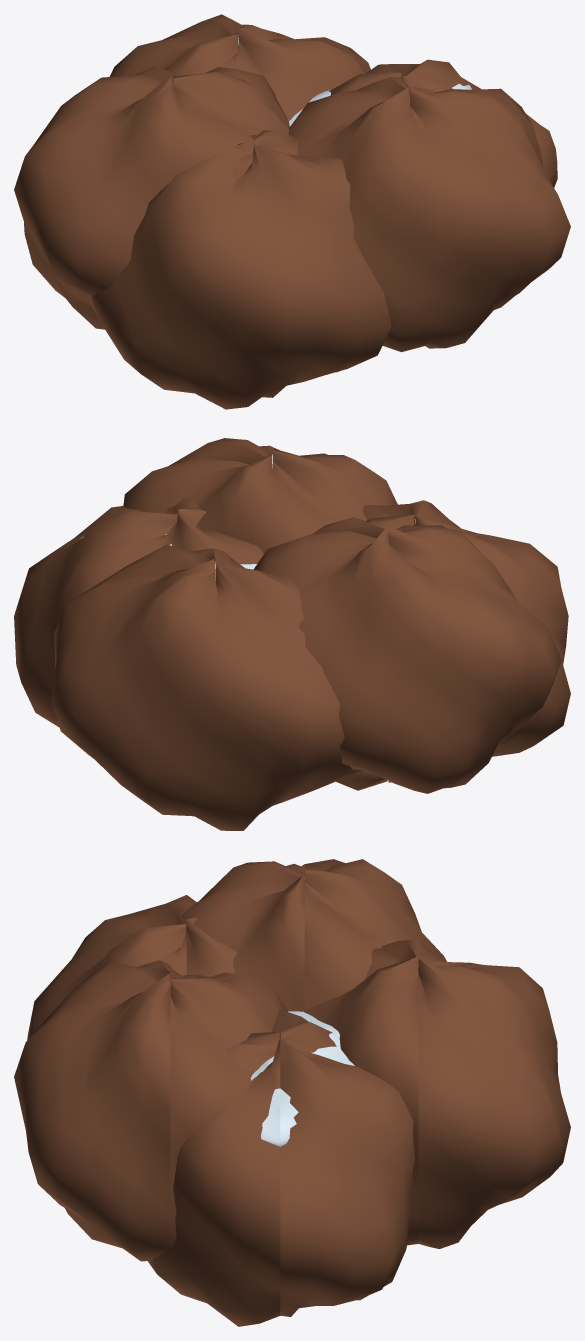
File: fuel.glb
The picture shows the model from 3 angles, top to bottom: view 1: azimuth 30°, elevation 25°; view 2: azimuth 150°, elevation 25°; view 3: azimuth 270°, elevation 25°; orthographic projection. The views are drawn at different scales.
Parts seen in each view (by area): view 1: fuel_1, fuel_3, fuel_4, fuel_2, fuel_0; view 2: fuel_2, fuel_4, fuel_3, fuel_0, fuel_1; view 3: fuel_0, fuel_3, fuel_2, fuel_4, fuel_1, snow_cap.
Boxes of the visible parts, x1,y1,x2,y2 form: fuel_1: (90,130,391,409); fuel_3: (288,77,570,352); fuel_4: (14,66,289,329); fuel_2: (109,14,370,120); fuel_0: (329,59,557,309); fuel_2: (51,544,363,830); fuel_4: (253,517,561,793); fuel_3: (123,438,397,553); fuel_0: (14,497,263,727); fuel_1: (362,500,570,756); fuel_0: (148,1009,414,1326); fuel_3: (14,960,288,1261); fuel_2: (304,938,570,1248); fuel_4: (182,859,446,1011); fuel_1: (27,895,236,1039); snow_cap: (250,1011,354,1146).
Size of the model in its own units: 1.74 by 0.9617 by 1.49.
